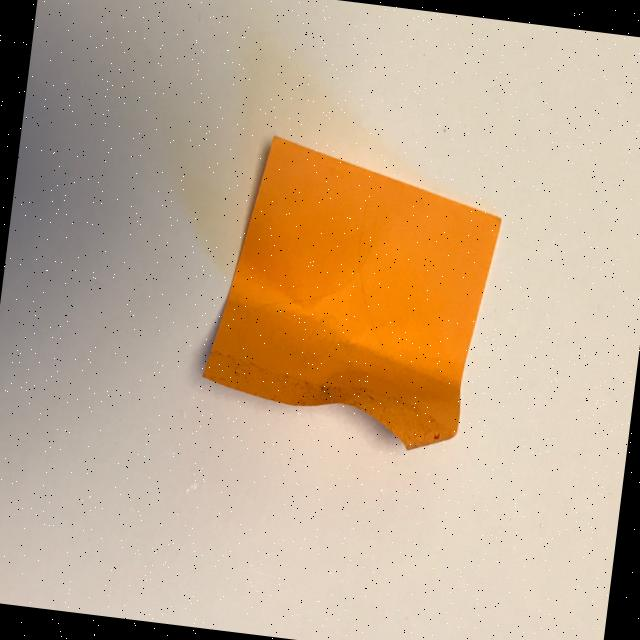paper: (196, 128, 508, 458)
